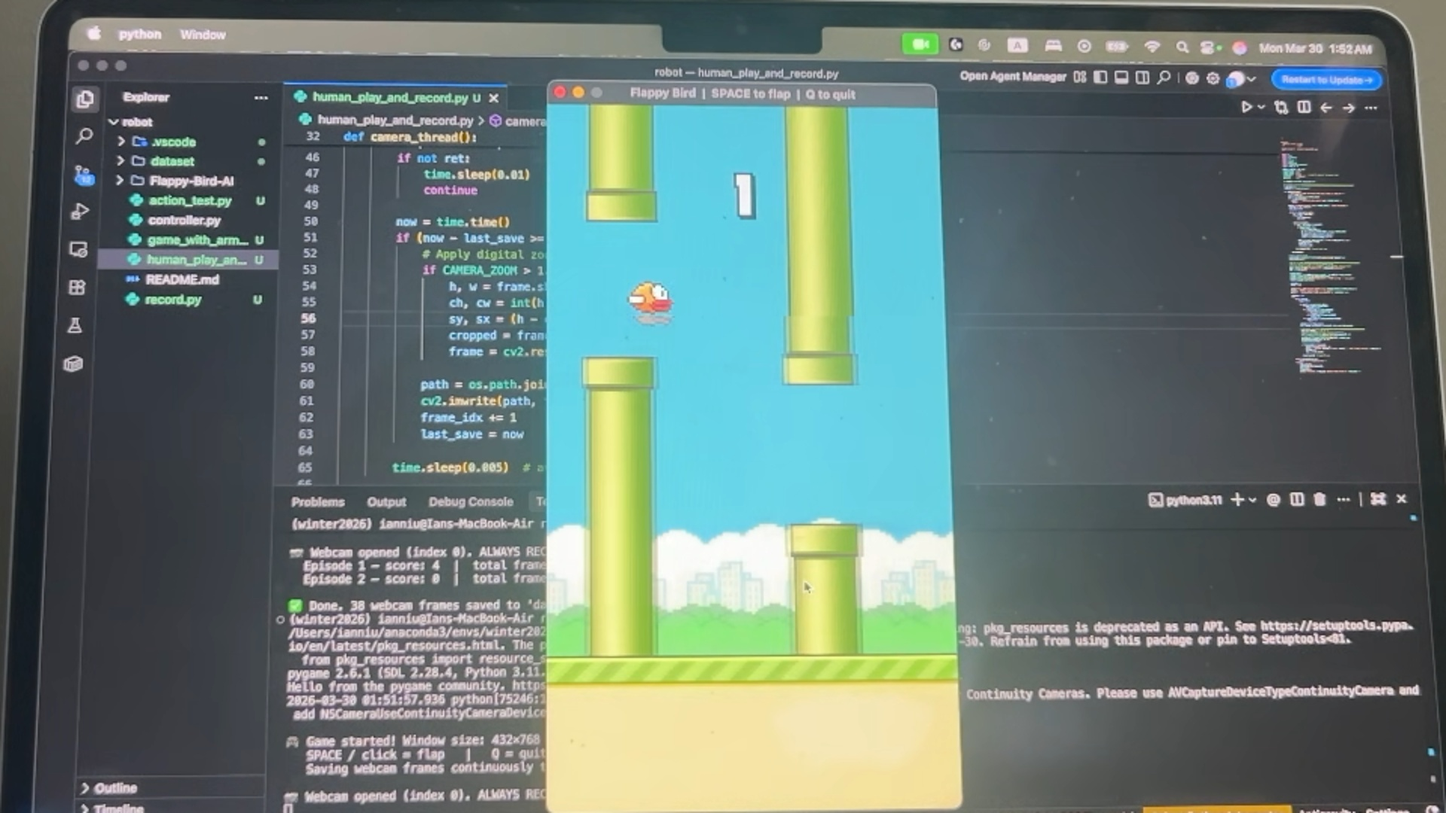bird: (625, 275, 675, 322)
green pipes: (586, 361, 655, 660), (786, 104, 859, 386), (793, 525, 861, 656), (584, 105, 655, 220)
